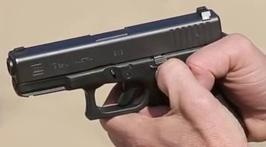gun: (1, 1, 266, 147)
